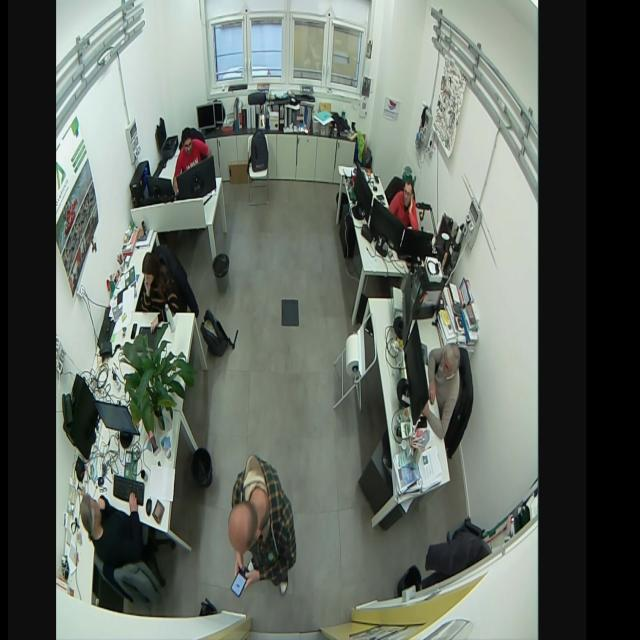Persona: (226, 453, 299, 600), (77, 485, 149, 574), (421, 342, 463, 440), (139, 250, 181, 335), (171, 121, 211, 180), (387, 175, 421, 235)
